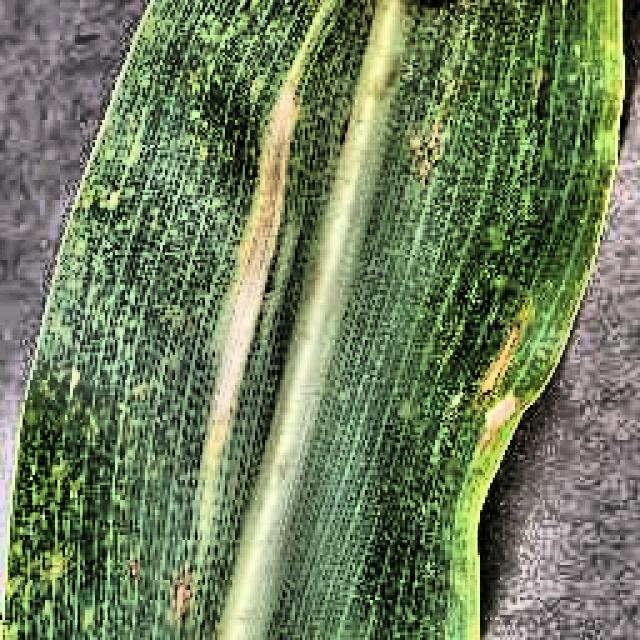blight: (117, 8, 577, 636)
